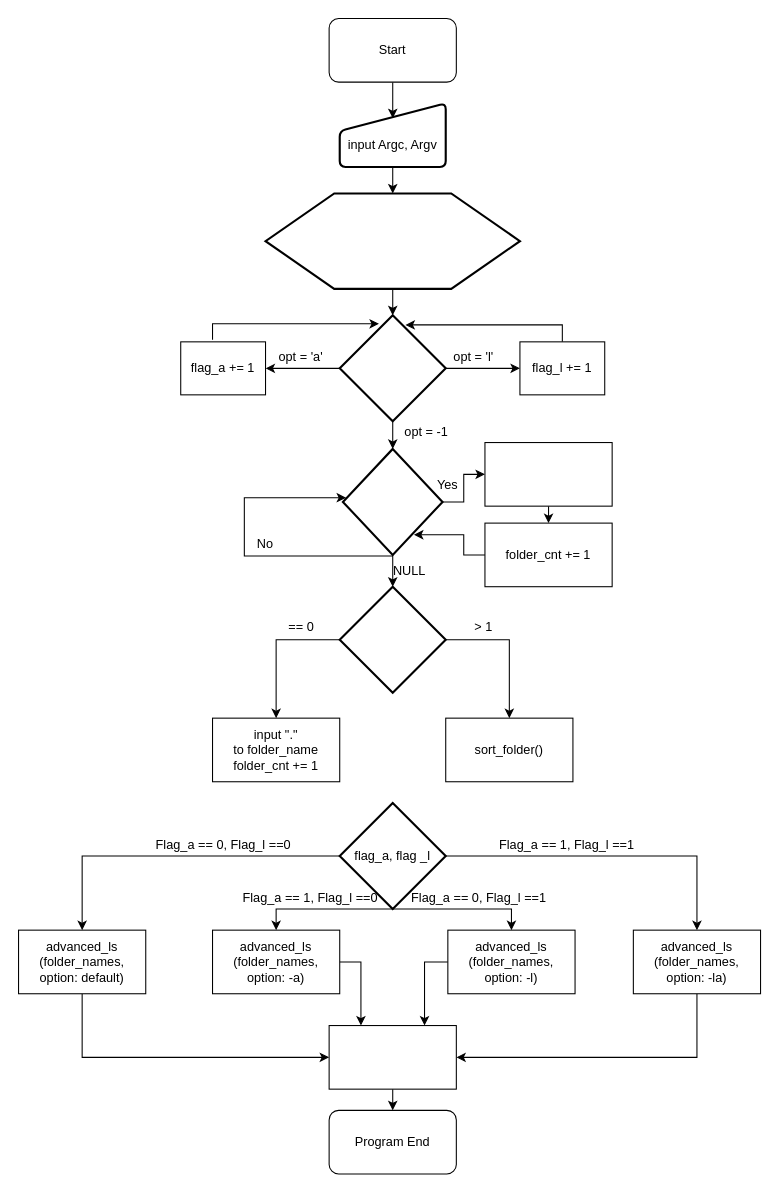
Image size: 779x1192. Some labels were removed from this diagram. The centre of each missing label's shape, as x and y in pixels:
"argv[] == file or folder name ?" belongs at pixel 392 501.
"char ** folder_name int folder_cnt; int opt=0, flag_a=0, flag_l=0" belongs at pixel 392 240.
"folder_cnt" belongs at pixel 392 639.
"free(folder_name[]) free(folder_name)" belongs at pixel 392 1056.
"input argv[] to folder_name" belongs at pixel 548 473.
"opt = geropt()" belongs at pixel 392 368.
